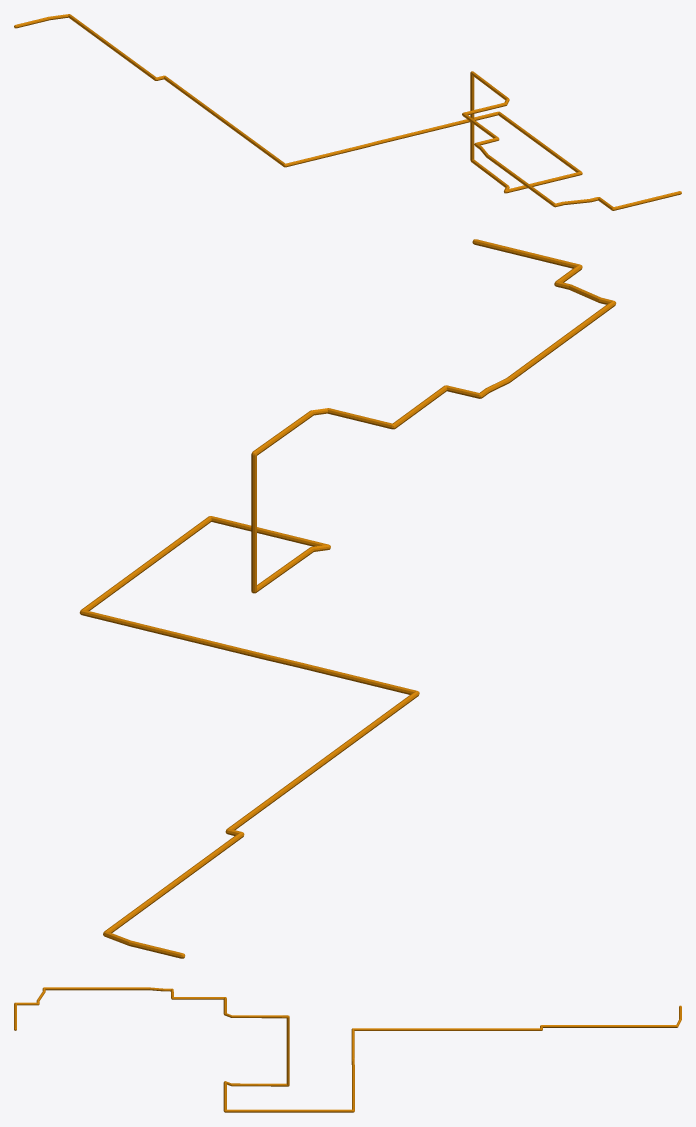
3 views of the same model, one above another, from view 1: azimuth 30°, elevation 25°; view 2: azimuth 150°, elevation 25°; view 3: azimuth 270°, elevation 25° (orthographic). The views are drawn at different scales.
Size of the model in its own units: 1656 by 520 by 4433.
